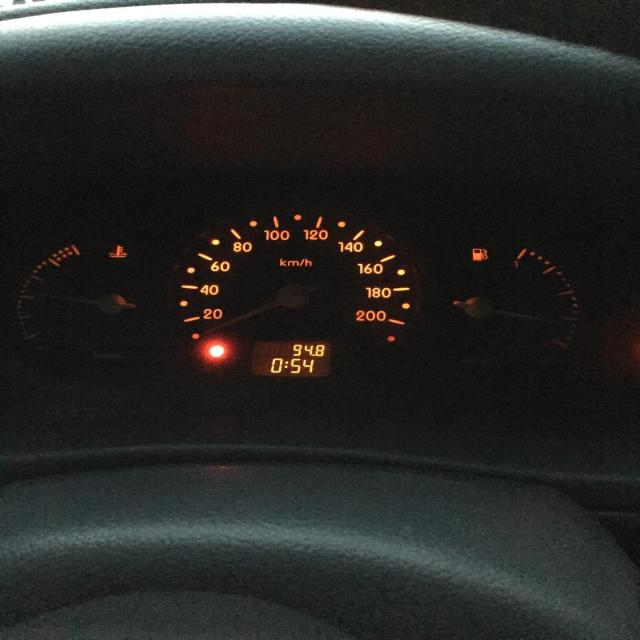odometer: (249, 339, 332, 379)
